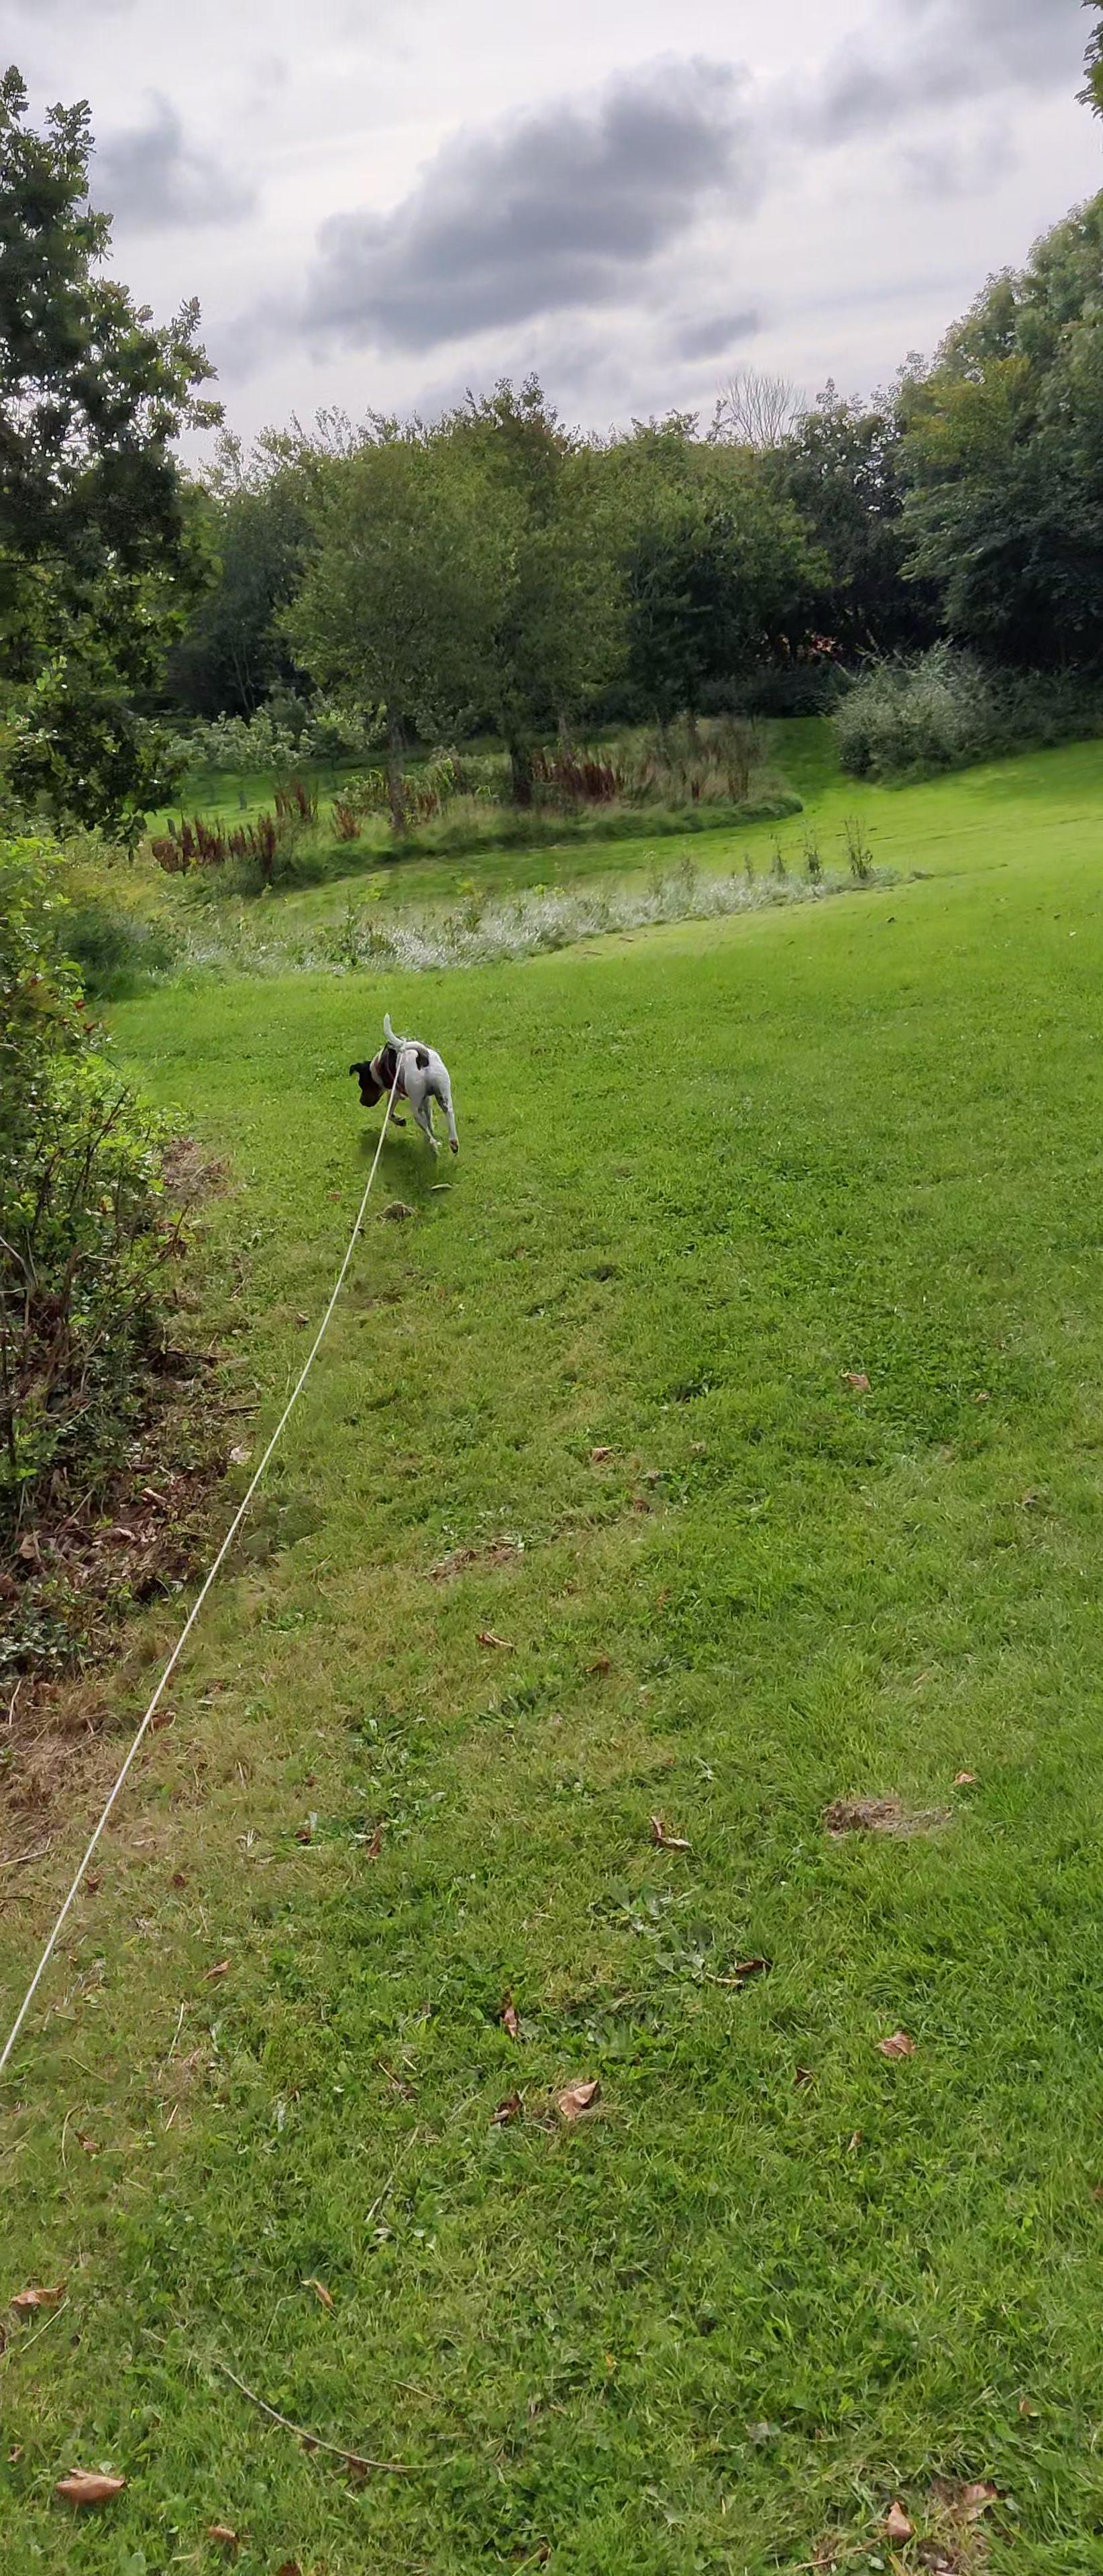Dog: (347, 1009, 464, 1160)
